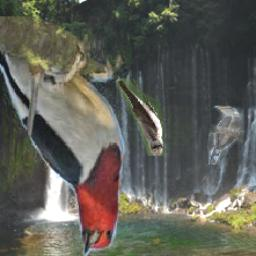Cuckoo: (210, 106, 246, 164)
Swallow: (117, 80, 164, 157)
Woodpecker: (0, 17, 130, 256)
